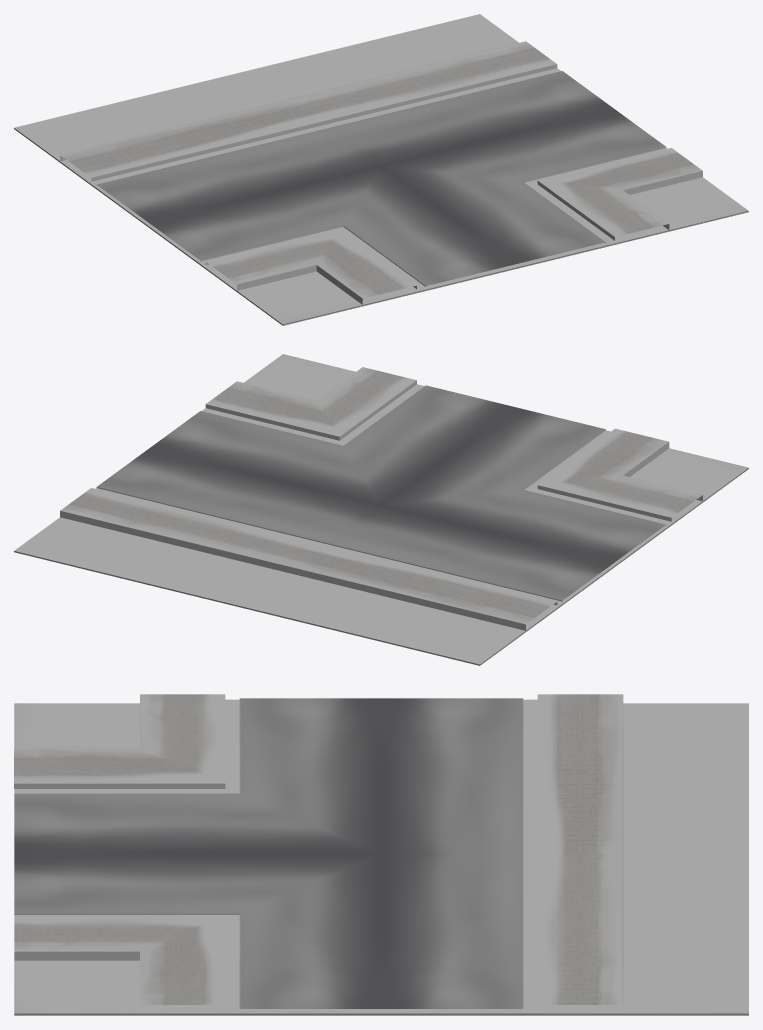
Rendered from Half_Intersection_Flat.fbx.
3 views of the same model, one above another, from view 1: azimuth 30°, elevation 25°; view 2: azimuth 150°, elevation 25°; view 3: azimuth 270°, elevation 25° (orthographic). The views are drawn at different scales.
Visible parts, largest first — view 1: Road_10X33, Road_10X25; view 2: Road_10X33, Road_10X25; view 3: Road_10X33, Road_10X25.
Boxes of the visible parts, x1,y1,x2,y2 form: Road_10X33: [60, 41, 702, 304]; Road_10X25: [14, 14, 748, 325]; Road_10X33: [60, 367, 702, 630]; Road_10X25: [14, 354, 748, 665]; Road_10X33: [14, 694, 623, 1010]; Road_10X25: [14, 703, 748, 1015].
Size of the model in its own units: 1000 by 15.95 by 1000.
